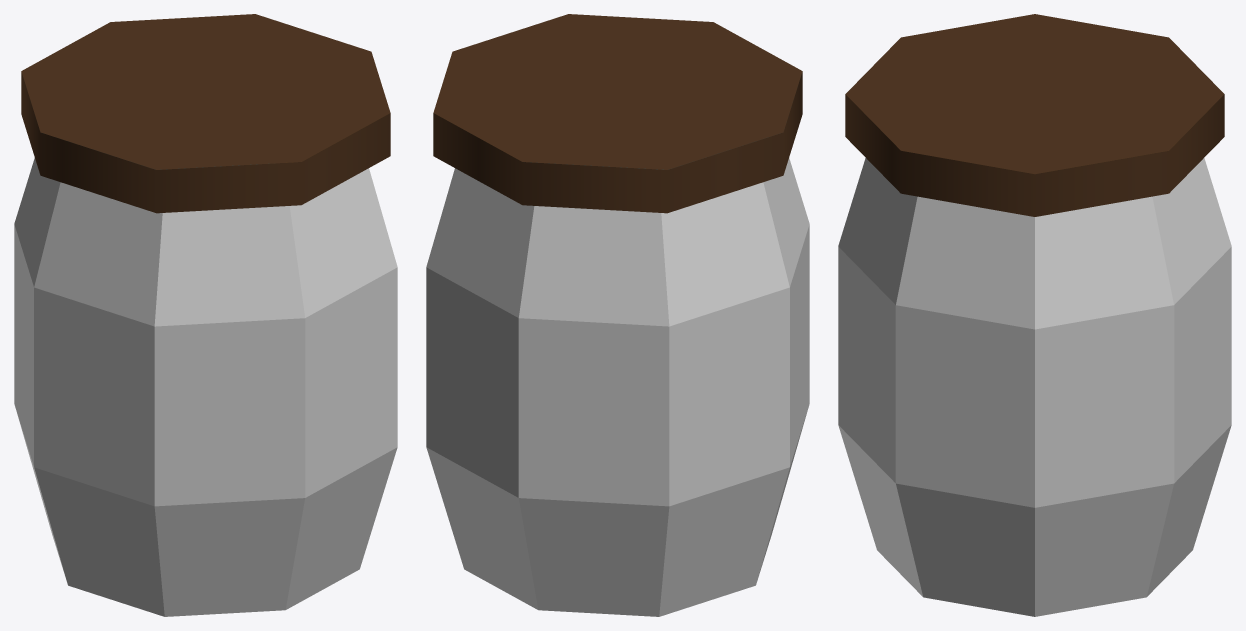
File: Energomed.fbx
3 views of the same model, side by side, from view 1: azimuth 30°, elevation 25°; view 2: azimuth 150°, elevation 25°; view 3: azimuth 270°, elevation 25° (orthographic).
Parts seen in each view (by area): view 1: Банка, Крышка и мёд; view 2: Банка, Крышка и мёд; view 3: Банка, Крышка и мёд.
Boxes of the visible parts, x1=… form: Банка: x1=14, y1=158, x2=397, y2=616; Крышка и мёд: x1=21, y1=14, x2=390, y2=213; Банка: x1=426, y1=158, x2=809, y2=616; Крышка и мёд: x1=433, y1=14, x2=802, y2=213; Банка: x1=838, y1=158, x2=1231, y2=616; Крышка и мёд: x1=845, y1=14, x2=1224, y2=216.
Size of the model in its own units: 0.2492 by 0.3187 by 0.2492.
